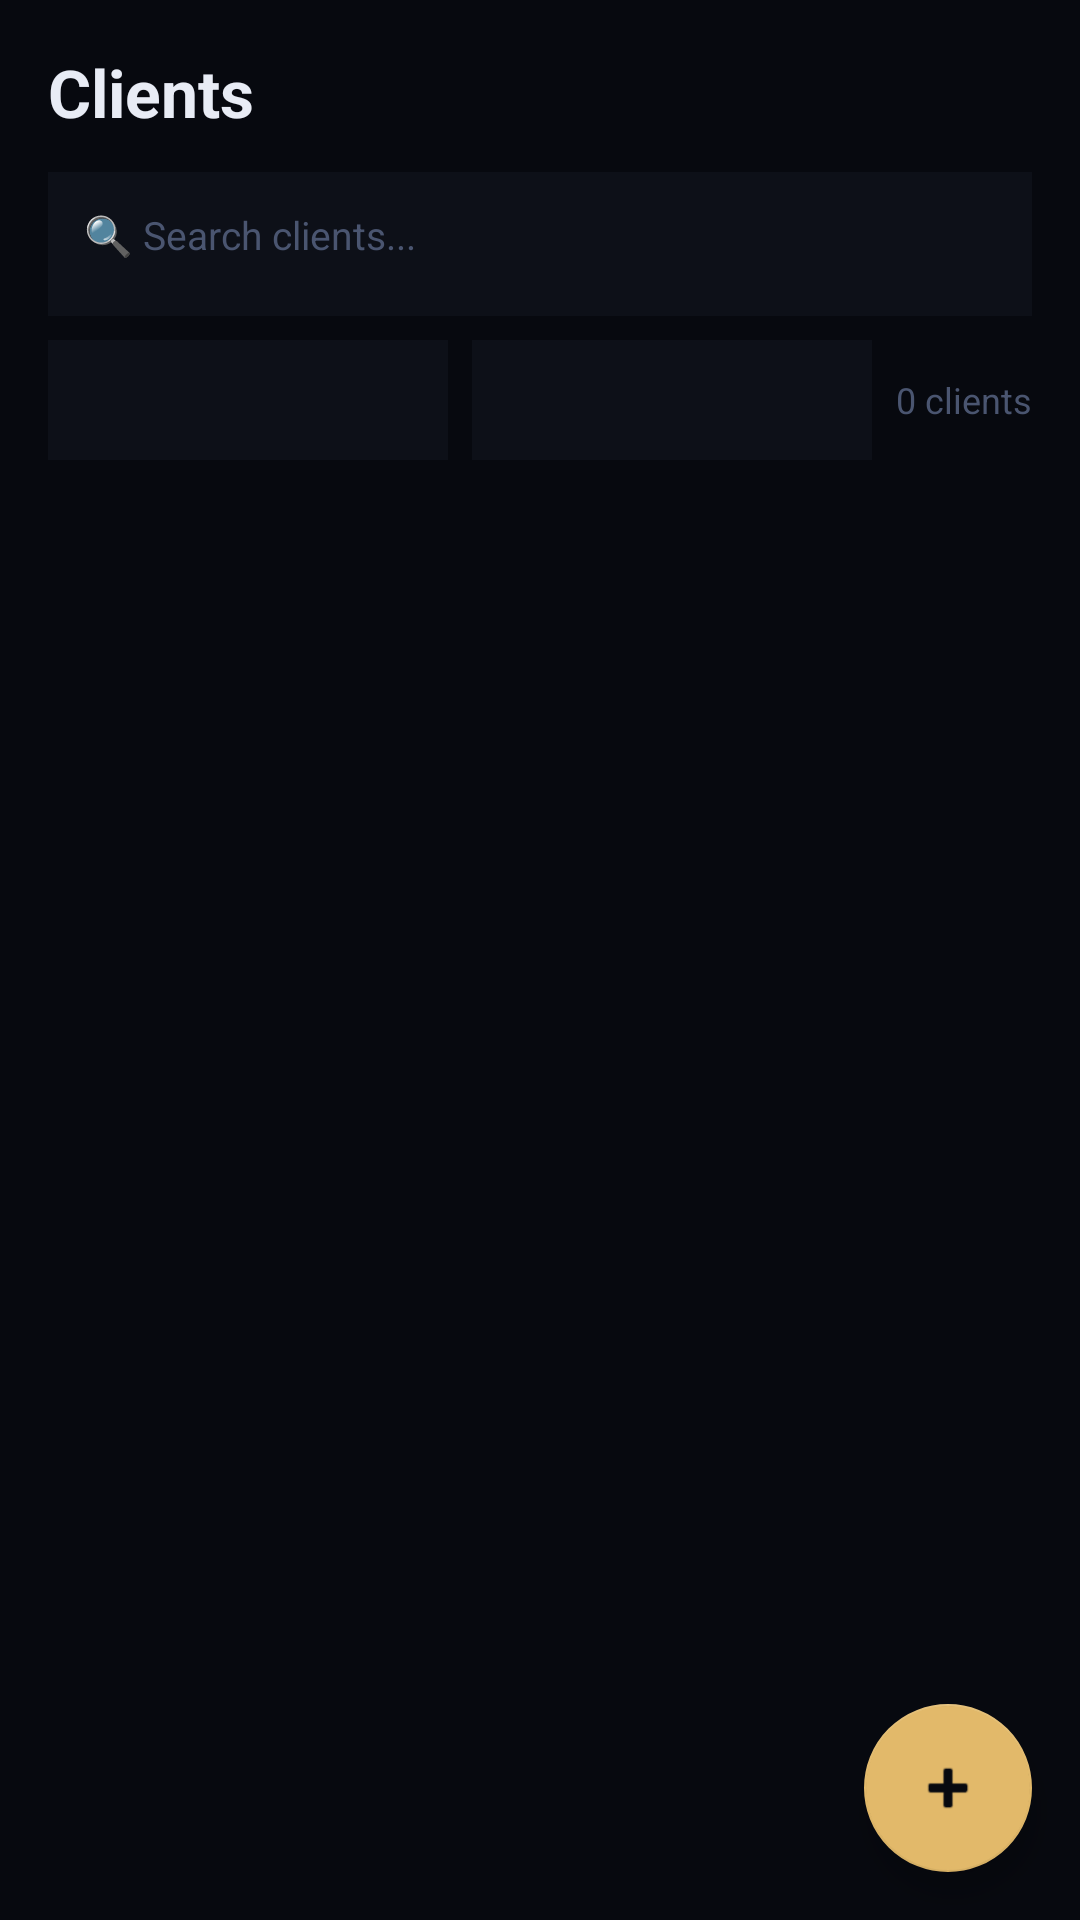

Named icons in this screenshot (1080w x 1920h) and their centers, (x,y):
Add Client: (948,1788)
